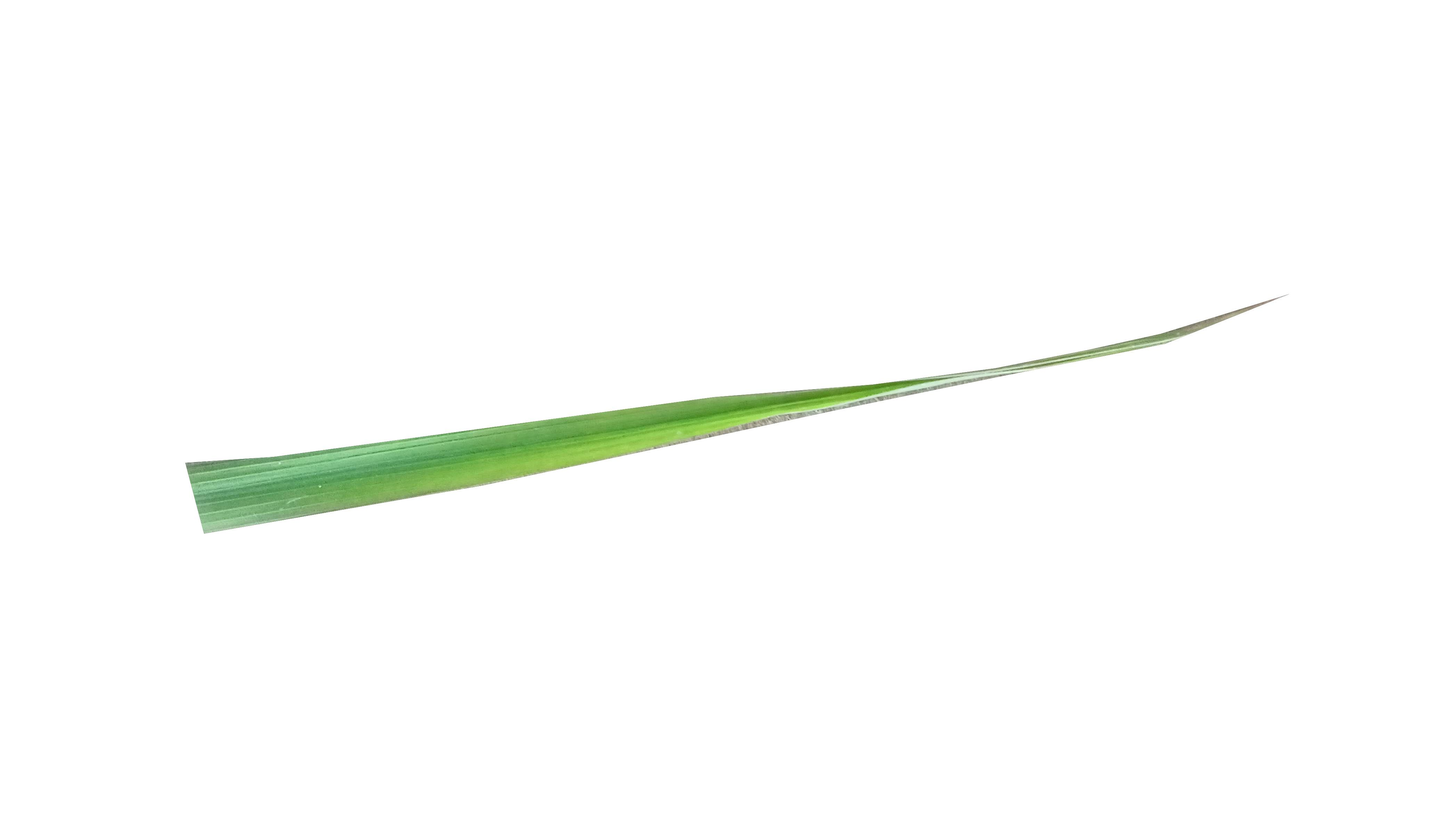Tungro: (318, 384, 939, 509)
